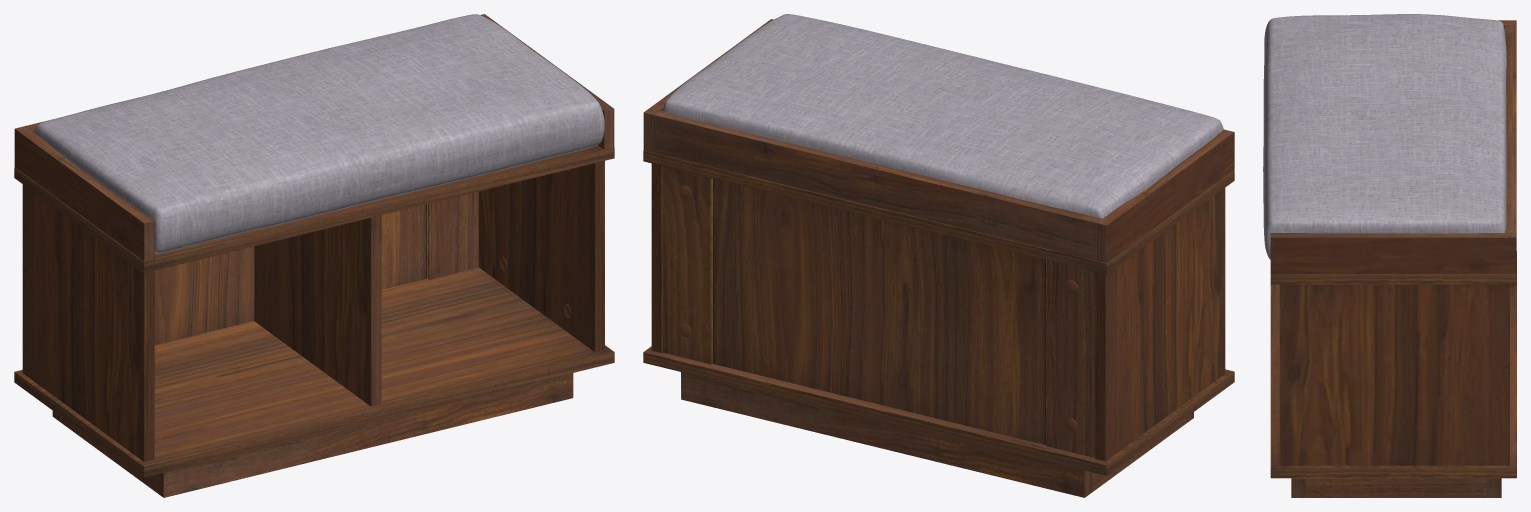
File: abo-B07DBDTCTY.glb
3 views of the same model, side by side, from view 1: azimuth 30°, elevation 25°; view 2: azimuth 150°, elevation 25°; view 3: azimuth 270°, elevation 25° (orthographic). The views are drawn at different scales.
Size of the model in its own units: 0.734 by 0.461 by 0.362.
1 material, 1 textured.
